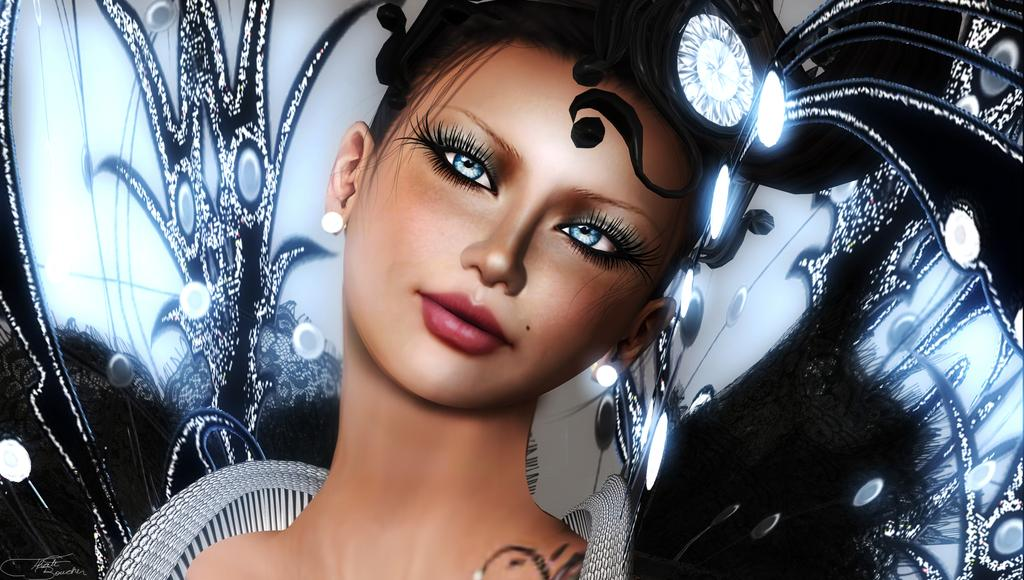Sem Máscara: (343, 38, 685, 407)
